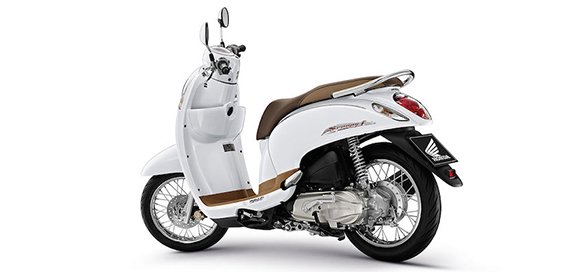motorcycle: (137, 7, 464, 262)
